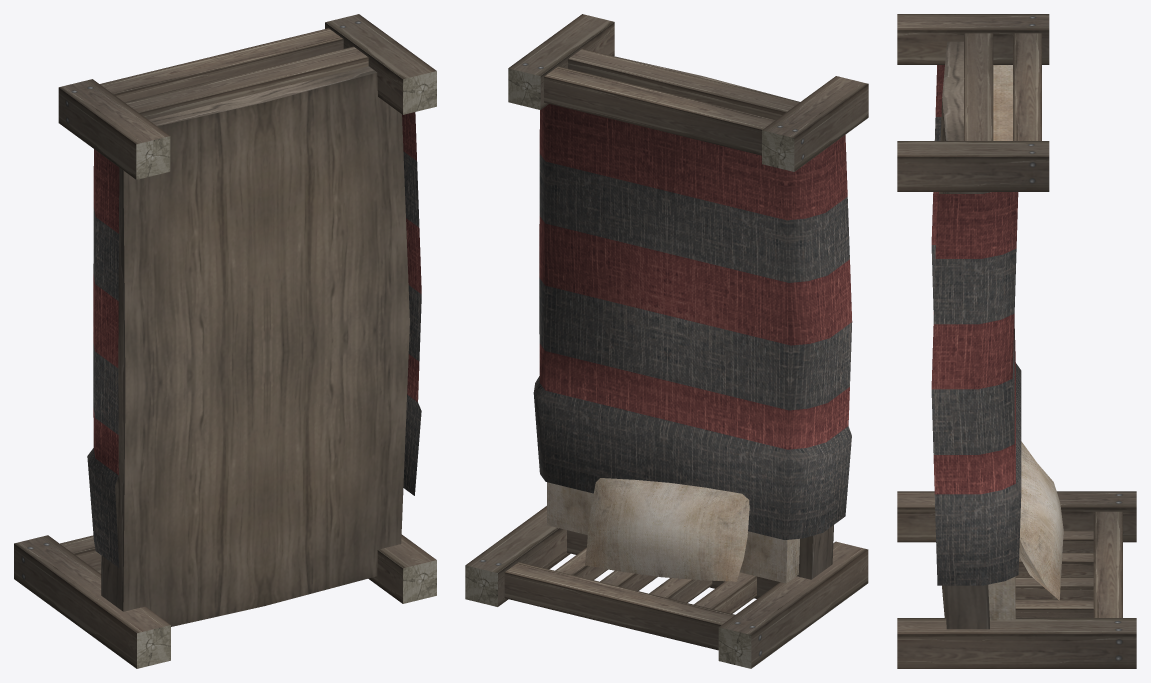
Rendered from Bed_01_B.fbx.
3 views of the same model, side by side, from view 1: azimuth 30°, elevation 25°; view 2: azimuth 150°, elevation 25°; view 3: azimuth 270°, elevation 25° (orthographic). The views are drawn at different scales.
Visible parts, largest first — view 1: Bed_01_B; view 2: Bed_01_B; view 3: Bed_01_B.
Part boxes in pixels (x1=…): Bed_01_B: x1=14, y1=14, x2=436, y2=668; Bed_01_B: x1=465, y1=14, x2=868, y2=668; Bed_01_B: x1=897, y1=14, x2=1136, y2=668.
Size of the model in its own units: 2.23 by 3.65 by 1.55.
